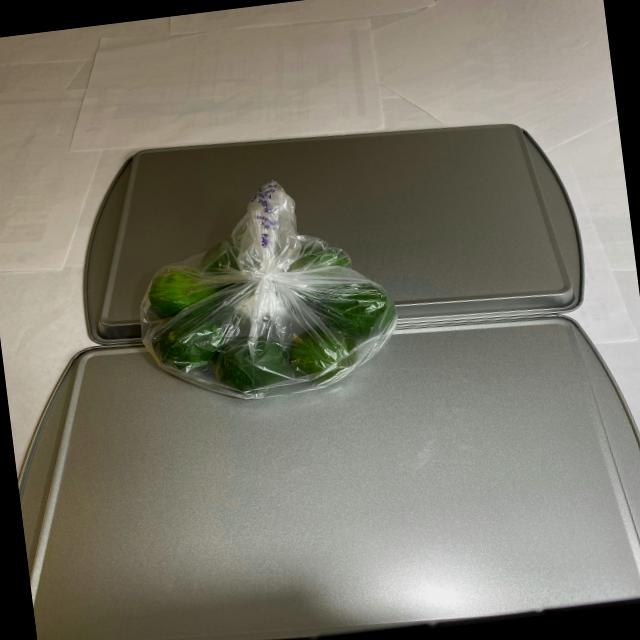lemon: (140, 222, 403, 410)
